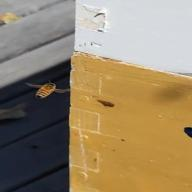Bee: (23, 78, 72, 100)
